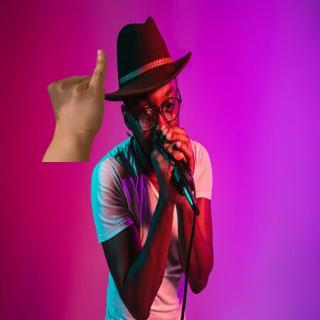FINE: (38, 46, 111, 143)
